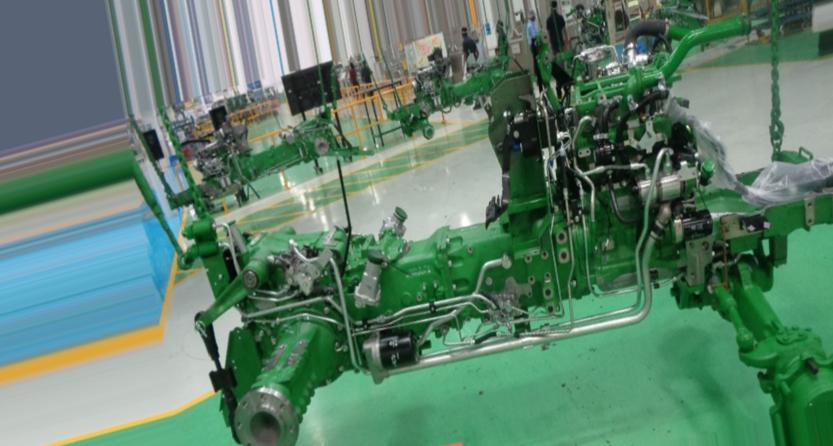engine: (187, 9, 833, 446)
